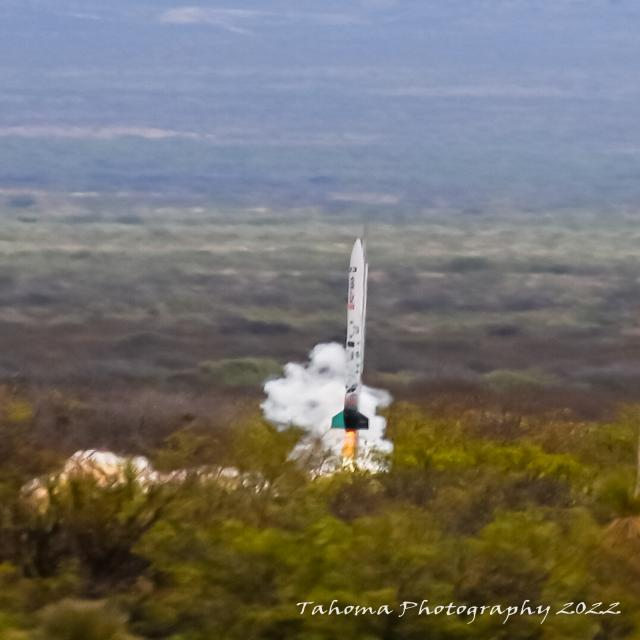Rocket: (330, 237, 369, 432)
